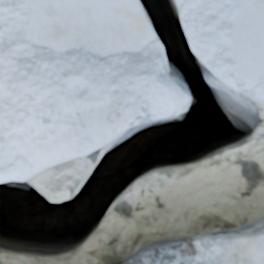brick: (124, 219, 263, 263)
broken_brick: (0, 0, 187, 180), (177, 0, 263, 106)
crack: (0, 0, 263, 263)
